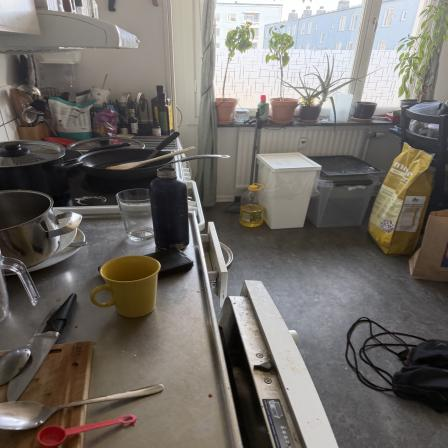blue_bottle: (146, 168, 192, 250)
phone: (100, 253, 198, 283)
yellow_cup: (82, 259, 162, 319)
